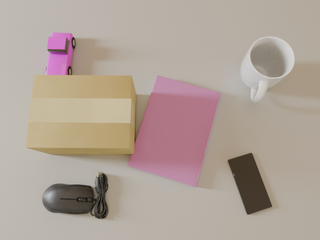book: (128, 75, 221, 187)
box: (26, 75, 136, 155)
cup: (240, 37, 295, 103)
mouse: (42, 172, 108, 219)
phone: (228, 153, 272, 215)
toy_car: (46, 33, 75, 75)
